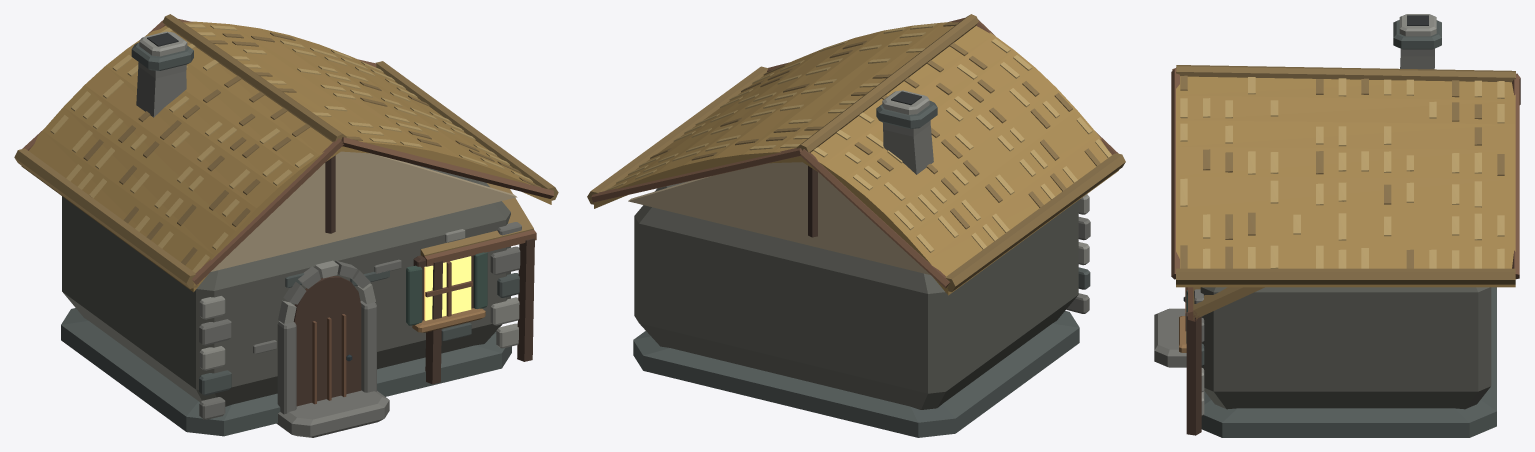
Rendered from BLD_V3_Croft_Thatched.glb.
3 renders of one model, left to right at view 1: azimuth 30°, elevation 25°; view 2: azimuth 150°, elevation 25°; view 3: azimuth 270°, elevation 25°, orthographic.
Visible parts, largest first — view 1: BLD_V3_Croft_Thatched; view 2: BLD_V3_Croft_Thatched; view 3: BLD_V3_Croft_Thatched.
Part boxes in pixels (x1=…): BLD_V3_Croft_Thatched: x1=14, y1=14, x2=558, y2=437; BLD_V3_Croft_Thatched: x1=587, y1=14, x2=1125, y2=437; BLD_V3_Croft_Thatched: x1=1154, y1=14, x2=1520, y2=437.
Size of the model in its own units: 3.81 by 3 by 3.29.
